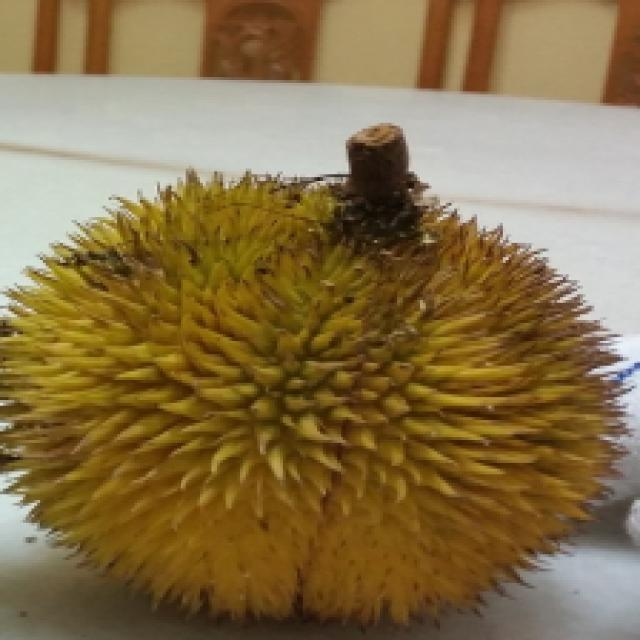d175: (9, 143, 624, 627)
